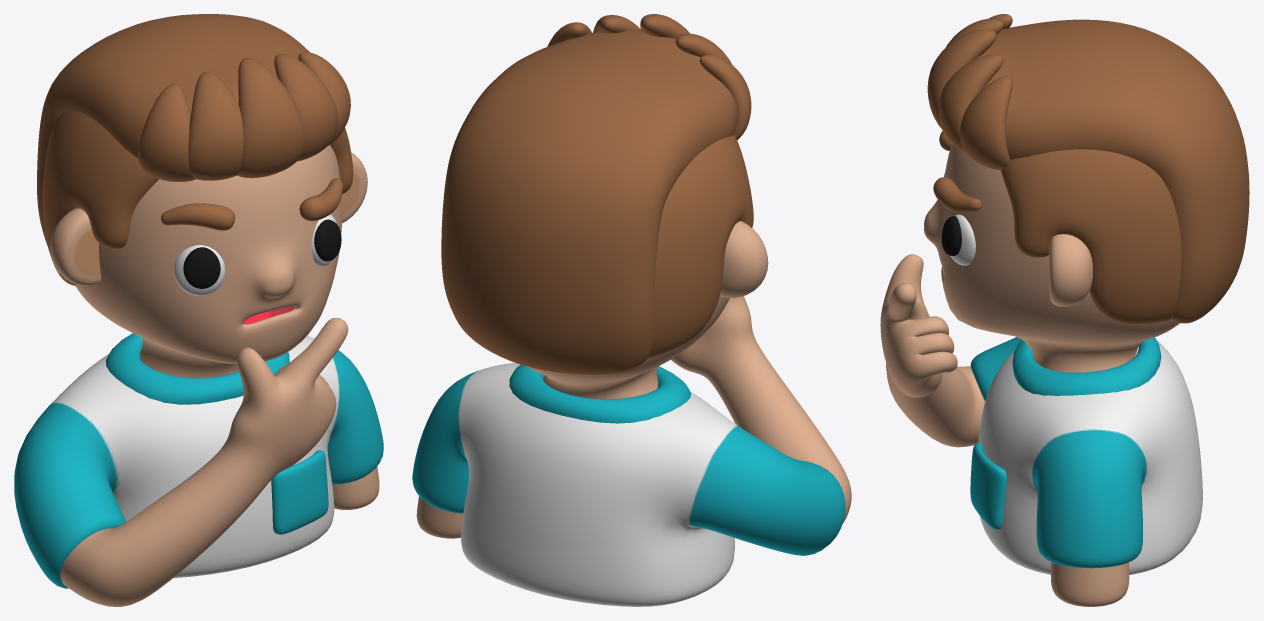
Rendered from man-icon.glb.
3 views of the same model, side by side, from view 1: azimuth 30°, elevation 25°; view 2: azimuth 150°, elevation 25°; view 3: azimuth 270°, elevation 25° (orthographic). The views are drawn at different scales.
Visible parts, largest first — view 1: thinking; view 2: thinking; view 3: thinking.
Part boxes in pixels (x1=…): thinking: x1=14, y1=14, x2=383, y2=606; thinking: x1=412, y1=14, x2=851, y2=606; thinking: x1=880, y1=14, x2=1249, y2=606.
Bounding box in the file's own units: 0.4512 × 0.5829 × 0.3927.
Materials: 1 (1 with a texture image).
